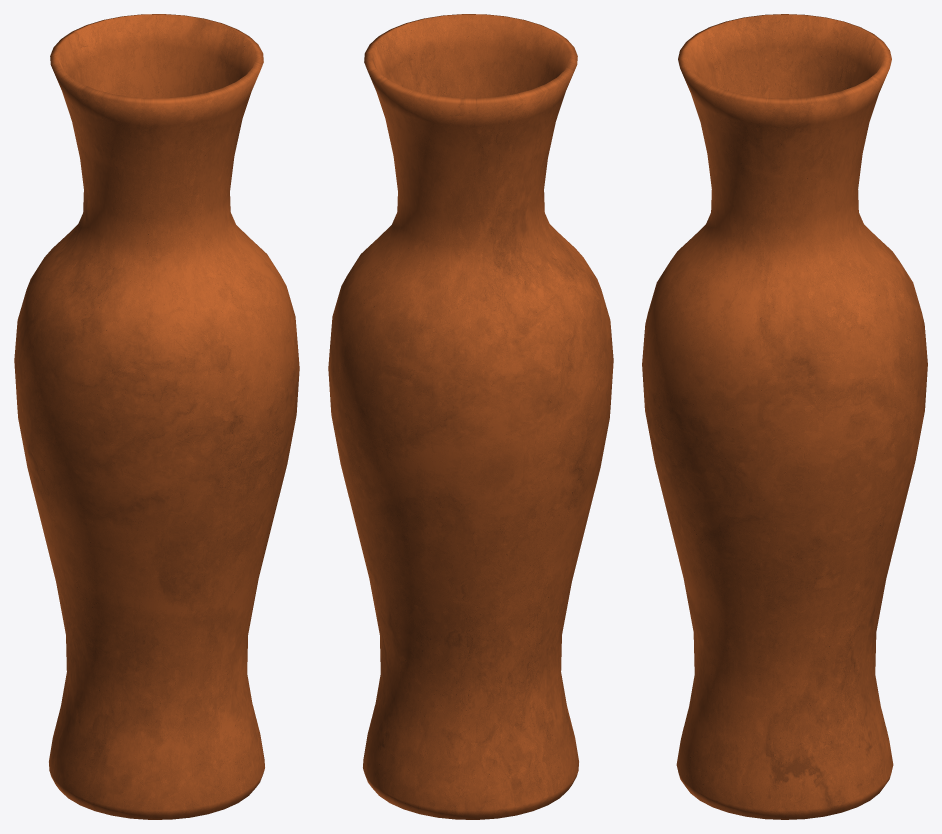
Rendered from vase3.fbx.
3 views of the same model, side by side, from view 1: azimuth 30°, elevation 25°; view 2: azimuth 150°, elevation 25°; view 3: azimuth 270°, elevation 25° (orthographic).
Parts seen in each view (by area): view 1: Vase3; view 2: Vase3; view 3: Vase3.
Boxes of the visible parts, box(x1,y1,x2,y2) form: Vase3: box(14, 14, 299, 819); Vase3: box(328, 14, 613, 819); Vase3: box(642, 14, 927, 819).
Size of the model in its own units: 34.7 by 97.03 by 34.7.
